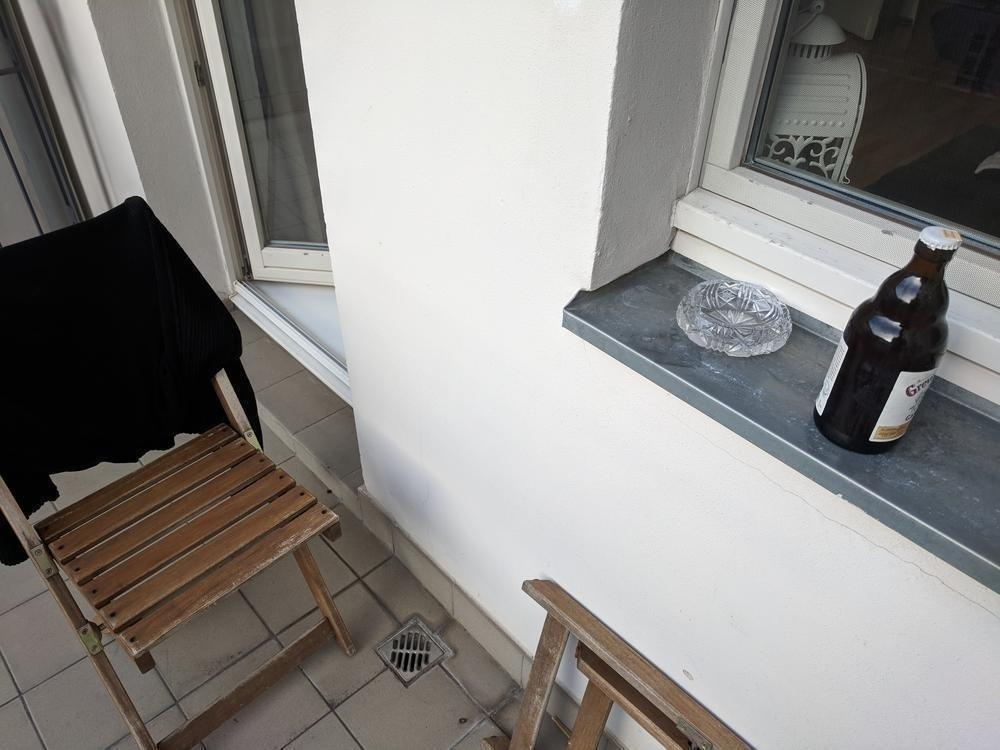bottle-glass: (811, 224, 963, 457)
